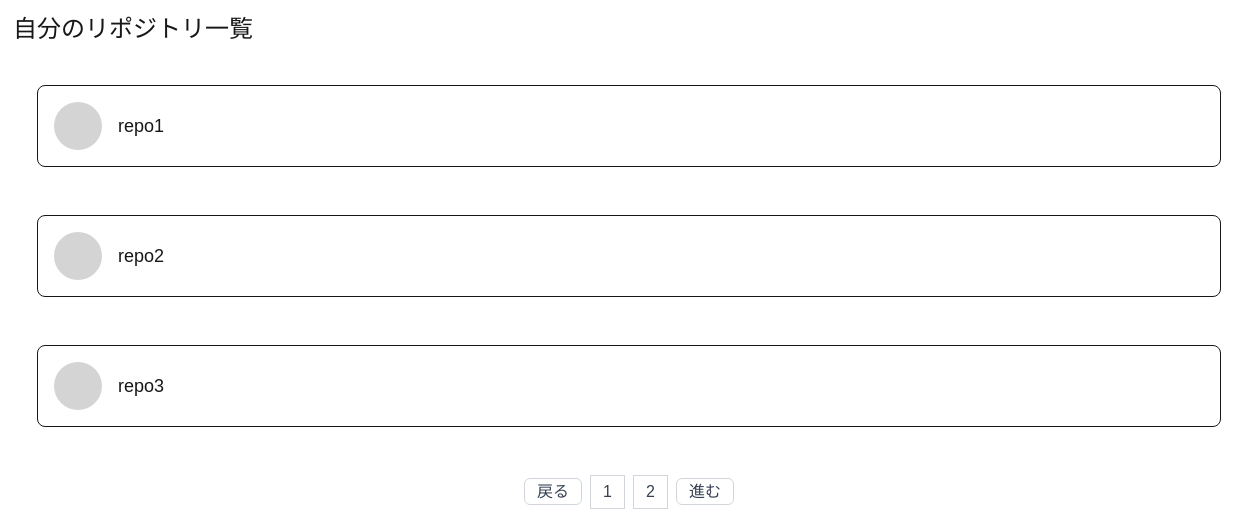
Scenario: RepositoryList › リポジトリが取得できると表示される
Expected: the link "repo1" is shown, [118,112,164,140]
Expected: the link "repo3" is shown, [118,372,164,400]
Click the button "進む" at coordinates (705, 492), box [676,478,734,505]
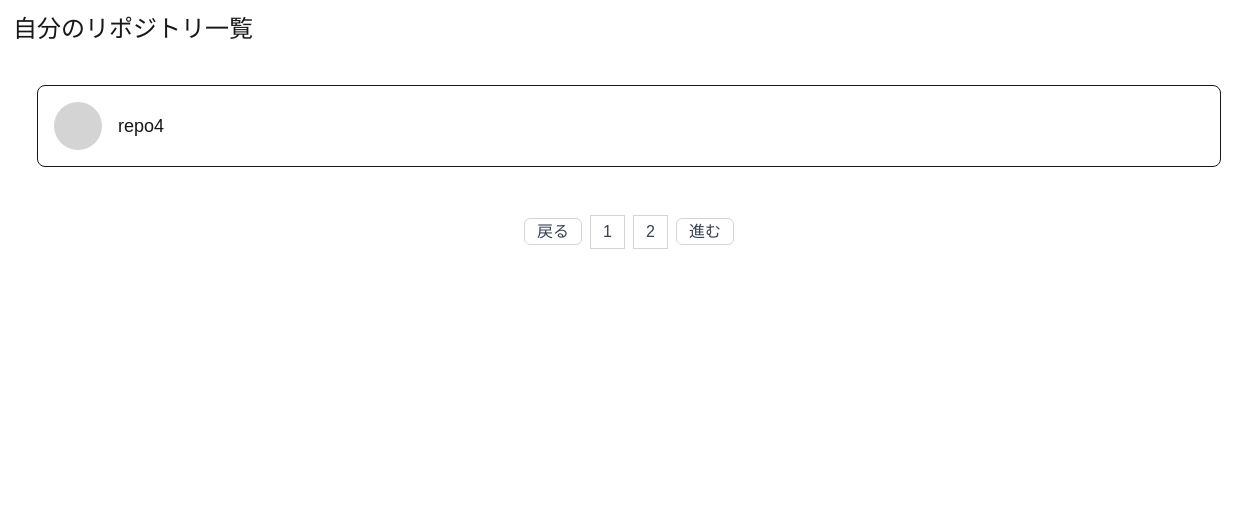
Expected: the link "repo4" is shown, [118,112,164,140]
Expected: the link "repo1" is gone
